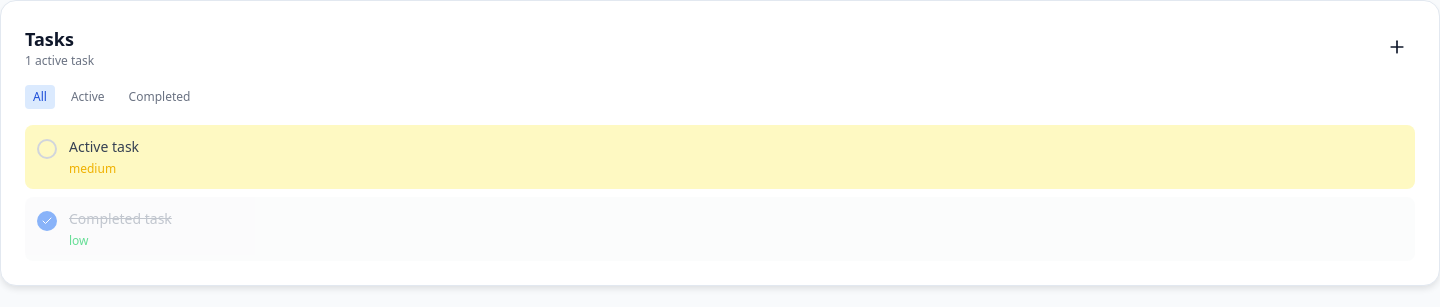
Test: TasksWidget › filters tasks by status
Expected: the text "Active task" is shown, [69,137,139,156]
Expected: the text "Completed task" is shown, [69,209,172,228]
Click the button "Active".
click(88, 97)  # box [63,85,113,109]
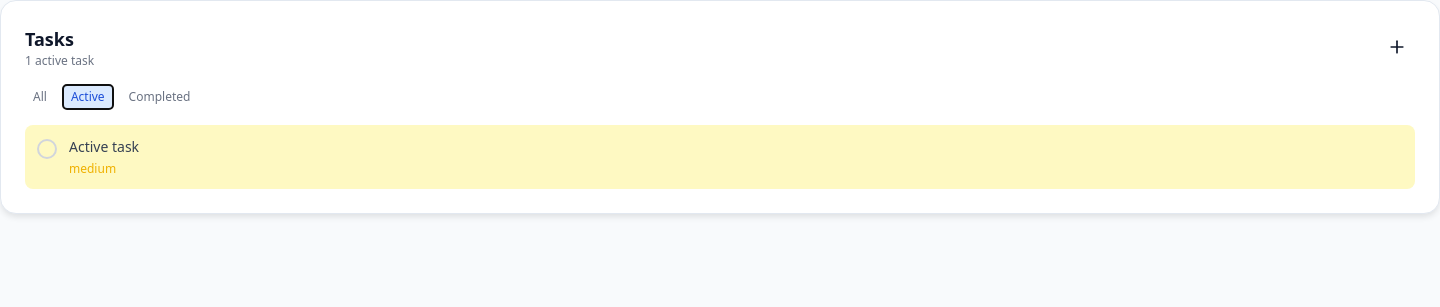
Expected: the text "Active task" is shown, [69,137,139,156]
Expected: the text "Completed task" is gone
Click the button "Completed".
click(160, 97)  # box [121,85,198,109]
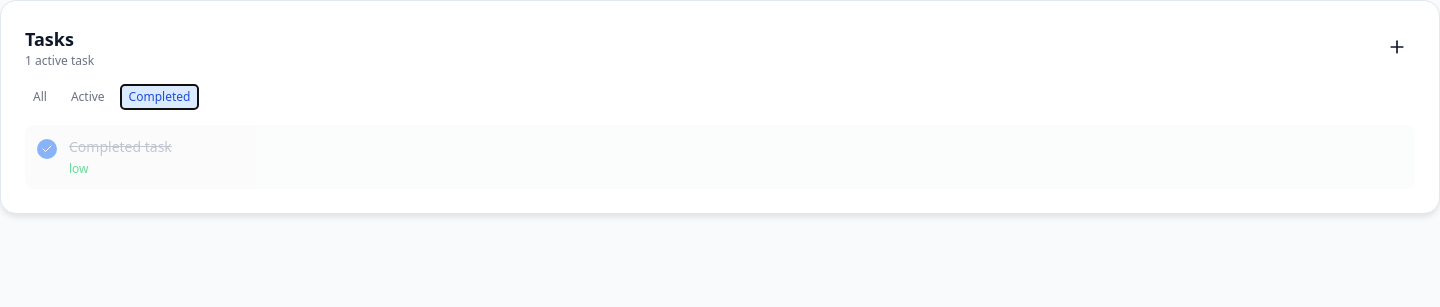
Expected: the text "Completed task" is shown, [69,137,172,156]
